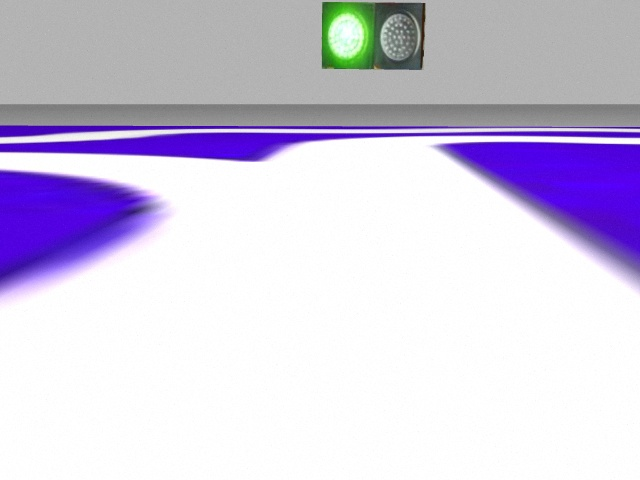green: (322, 3, 374, 69)
